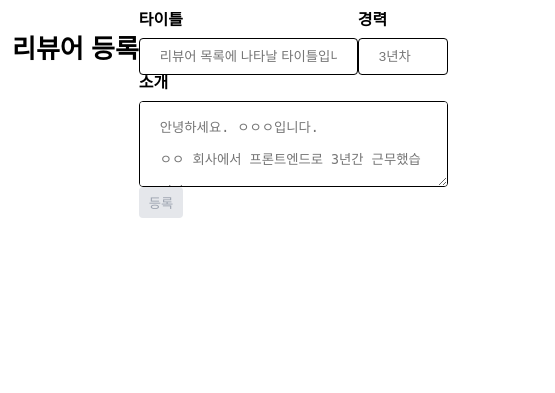
Test case: 리뷰어 등록 페이지 테스트 › 경력 입력란에 0에서 50이 아닌 숫자를 입력하면 유효성 에러 메시지가 출력된다.
The width and height of the screenshot is (555, 393).
In the number field labelled "경력": (403, 56) [358, 38, 448, 75], type "55"
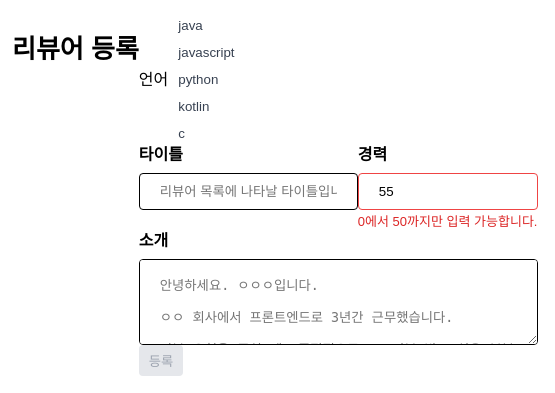
Check: the text "0에서 50까지만 입력 가능합니다." is shown, box [358, 210, 538, 233]
